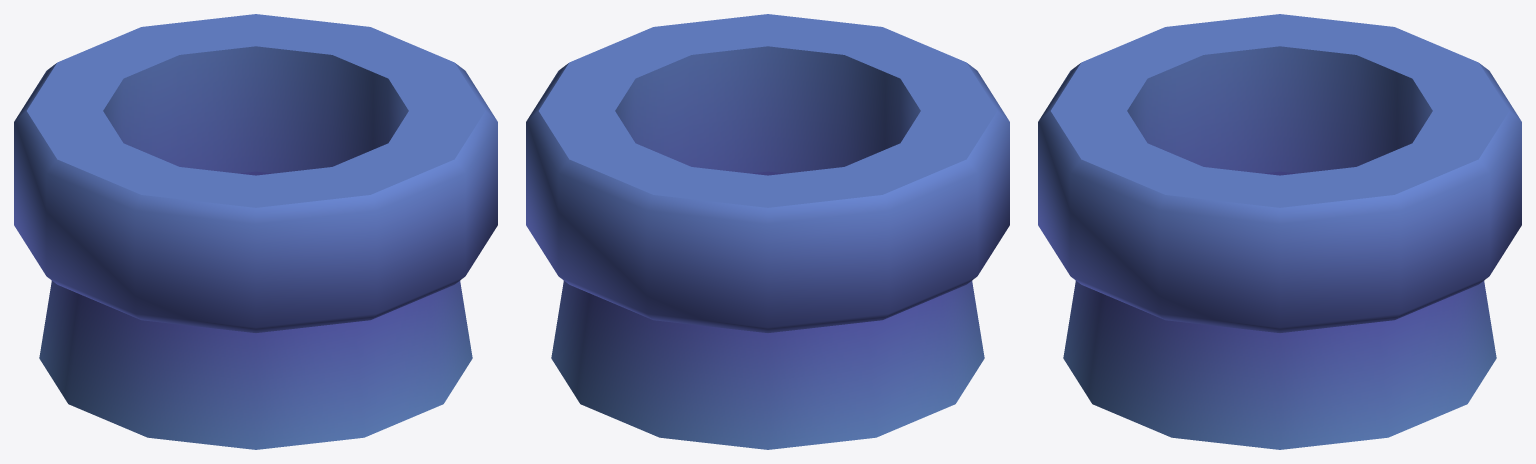
Rendered from pipe.glb.
3 renders of one model, left to right at view 1: azimuth 30°, elevation 25°; view 2: azimuth 150°, elevation 25°; view 3: azimuth 270°, elevation 25°, orthographic.
Visible parts, largest first — view 1: pipe; view 2: pipe; view 3: pipe.
Part boxes in pixels (x1,y1,x2,y2): pipe: [14, 14, 497, 449]; pipe: [526, 14, 1009, 449]; pipe: [1038, 14, 1521, 449].
Bounding box in the file's own units: 1 × 0.5643 × 1.
1 material, 1 textured.
